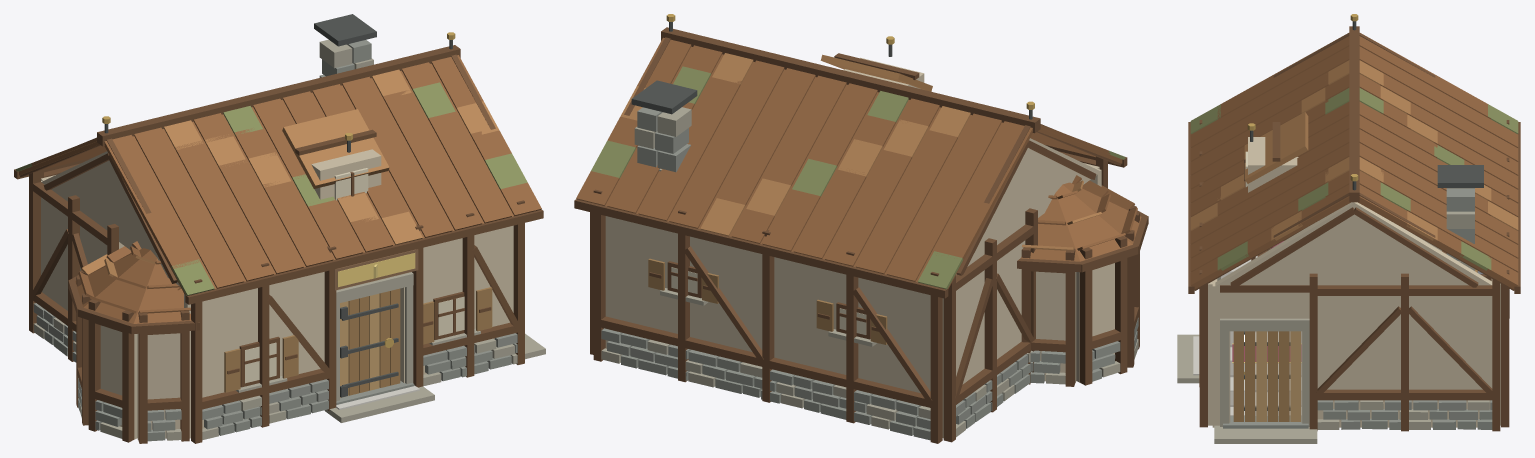
The model's file is holm_bank_v2.glb.
3 renders of one model, left to right at view 1: azimuth 30°, elevation 25°; view 2: azimuth 150°, elevation 25°; view 3: azimuth 270°, elevation 25°, orthographic. The views are drawn at different scales.
Visible parts, largest first — view 1: Roof_Workyard_Shingle_Umber, Static_Workyard_Oak_Dark, Static_Workyard_Warm_Limewash, Roof_Workyard_Oak_Dark, Roof_Workyard_Shingle_Sun, Static_Workyard_Fieldstone, Static_Workyard_Fieldstone_Light, Roof_Workyard_Warm_Limewash, Roof_Workyard_Shingle_Moss, front_door_Workyard_Oak_Worn, Static_Workyard_Oak_Worn, front_door_Workyard_Fresh_Cut (+9 smaller); view 2: Roof_Workyard_Shingle_Umber, Static_Workyard_Warm_Limewash, Static_Workyard_Oak_Dark, Roof_Workyard_Oak_Dark, Static_Workyard_Fieldstone, Roof_Workyard_Shingle_Sun, Roof_Workyard_Shingle_Moss, Roof_Workyard_Warm_Limewash, Static_Workyard_Fieldstone_Light, Roof_Workyard_Fieldstone, Static_Workyard_Oak_Worn, Roof_Workyard_Forged_Iron (+2 smaller); view 3: Roof_Workyard_Shingle_Umber, Static_Workyard_Warm_Limewash, Static_Workyard_Oak_Dark, Roof_Workyard_Warm_Limewash, Roof_Workyard_Oak_Dark, Roof_Workyard_Shingle_Sun, Static_Workyard_Fieldstone_Light, Static_Workyard_Fieldstone, staff_door_Workyard_Oak_Worn, Roof_Workyard_Shingle_Moss, staff_door_Workyard_Fresh_Cut, Roof_Workyard_Forged_Iron (+4 smaller).
Boxes of the visible parts, x1,y1,x2,y2 form: Roof_Workyard_Shingle_Umber: [19, 55, 541, 323]; Static_Workyard_Oak_Dark: [29, 163, 524, 443]; Static_Workyard_Warm_Limewash: [41, 175, 513, 439]; Roof_Workyard_Oak_Dark: [14, 45, 543, 334]; Roof_Workyard_Shingle_Sun: [81, 69, 499, 277]; Static_Workyard_Fieldstone: [33, 303, 517, 441]; Static_Workyard_Fieldstone_Light: [33, 272, 545, 440]; Roof_Workyard_Warm_Limewash: [41, 149, 381, 286]; Roof_Workyard_Shingle_Moss: [15, 82, 527, 295]; front_door_Workyard_Oak_Worn: [348, 288, 400, 395]; Static_Workyard_Oak_Worn: [224, 287, 492, 392]; front_door_Workyard_Fresh_Cut: [340, 293, 379, 397]; Roof_Workyard_Shingle_Umber: [576, 37, 1141, 288]; Static_Workyard_Warm_Limewash: [605, 163, 1114, 438]; Static_Workyard_Oak_Dark: [590, 151, 1139, 443]; Roof_Workyard_Oak_Dark: [574, 27, 1148, 298]; Static_Workyard_Fieldstone: [601, 317, 1138, 440]; Roof_Workyard_Shingle_Sun: [620, 53, 1101, 250]; Roof_Workyard_Shingle_Moss: [591, 66, 1125, 289]; Roof_Workyard_Warm_Limewash: [843, 57, 1099, 274]; Static_Workyard_Fieldstone_Light: [601, 288, 1138, 437]; Roof_Workyard_Fieldstone: [637, 107, 690, 172]; Static_Workyard_Oak_Worn: [648, 258, 887, 344]; Roof_Workyard_Forged_Iron: [631, 22, 1032, 119]; Roof_Workyard_Shingle_Umber: [1190, 33, 1518, 289]; Static_Workyard_Warm_Limewash: [1208, 230, 1500, 427]; Static_Workyard_Oak_Dark: [1199, 120, 1509, 431]; Roof_Workyard_Warm_Limewash: [1214, 137, 1492, 287]; Roof_Workyard_Oak_Dark: [1188, 26, 1520, 293]; Roof_Workyard_Shingle_Sun: [1190, 60, 1518, 240]; Static_Workyard_Fieldstone_Light: [1177, 276, 1489, 443]; Static_Workyard_Fieldstone: [1223, 400, 1492, 429]; staff_door_Workyard_Oak_Worn: [1233, 331, 1289, 421]; Roof_Workyard_Shingle_Moss: [1190, 88, 1518, 270]; staff_door_Workyard_Fresh_Cut: [1256, 331, 1300, 421]; Roof_Workyard_Forged_Iron: [1250, 21, 1483, 190].
Size of the model in its own units: 13.4 by 8.05 by 9.69.
